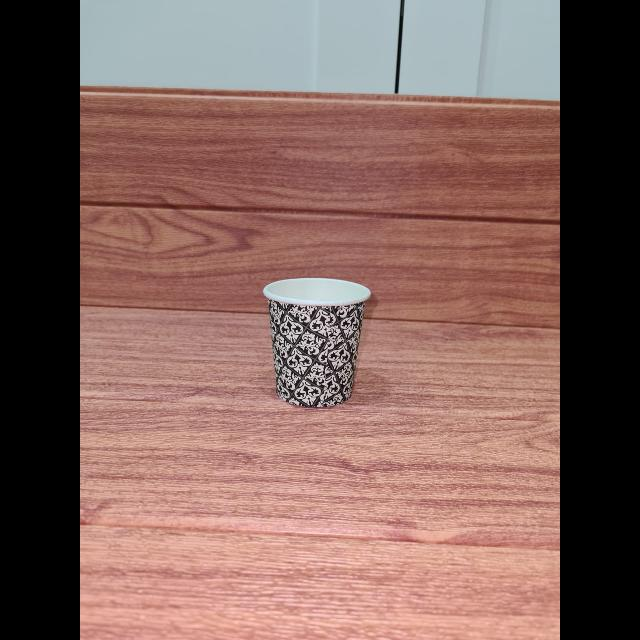trash: (256, 274, 374, 414)
